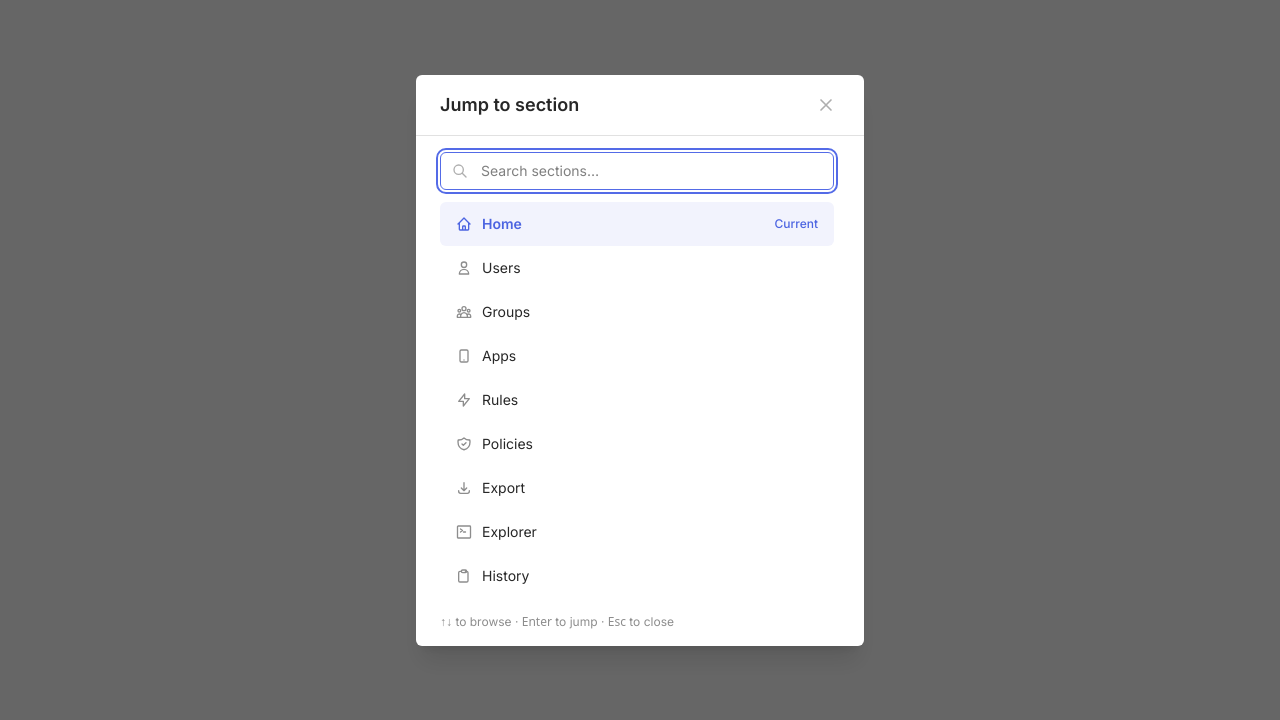
Test: TabJumpPalette › rendering and filtering › shows the shared empty state when nothing matches
Type "zzz" into the search field labelled "Search sections". click: (637, 170)
box: [440,152,834,190]
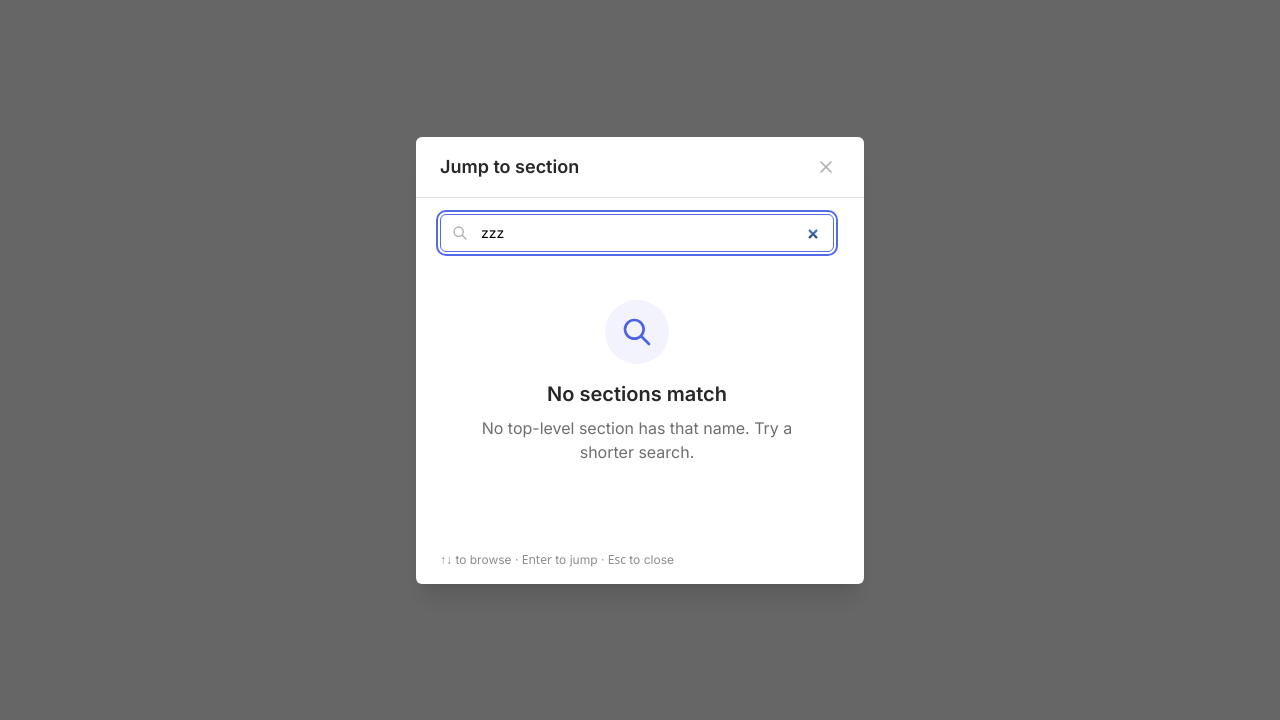
Check: the heading "No sections match" is shown, box [547,382,727,406]
